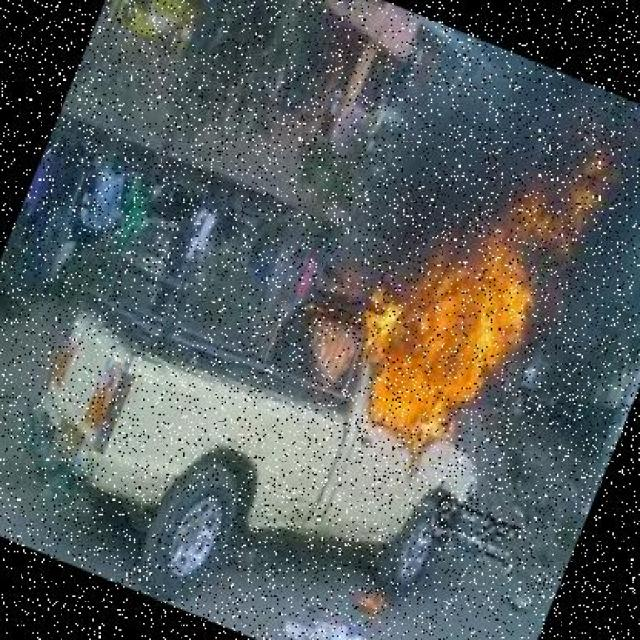fire: (324, 90, 624, 482)
